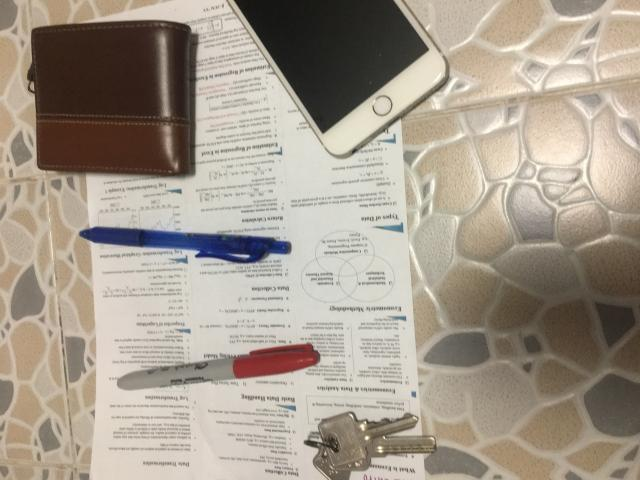Keys: (304, 411, 435, 479)
Mobile phone: (229, 0, 449, 158)
Pen: (116, 344, 320, 390), (80, 226, 291, 262)
Wallet: (31, 20, 191, 175)
paper: (77, 0, 425, 480)
